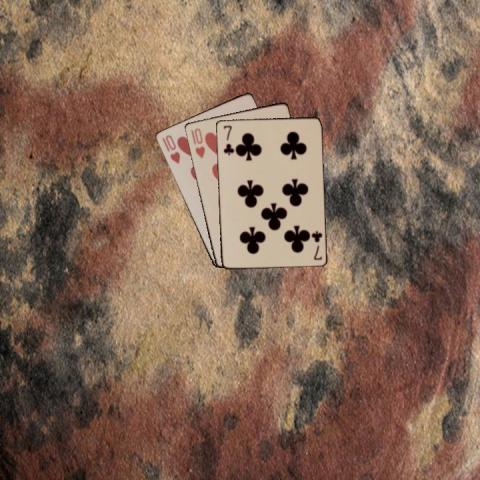10h: (159, 132, 181, 165), (187, 125, 206, 159)
7c: (308, 228, 323, 262), (221, 123, 233, 156)
